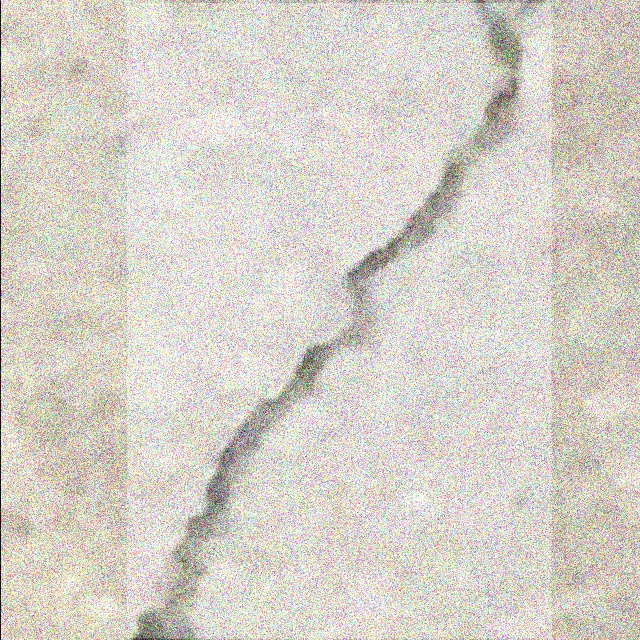SurfaceCrack: (128, 0, 552, 640)
